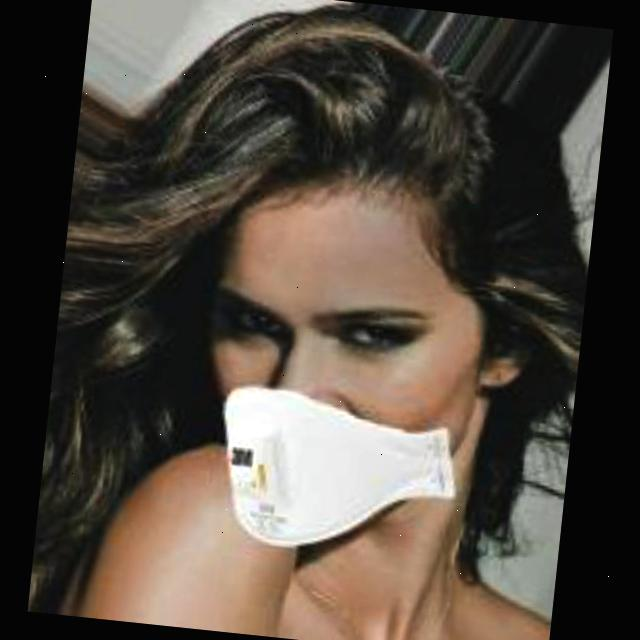suspicion: (188, 138, 535, 558)
